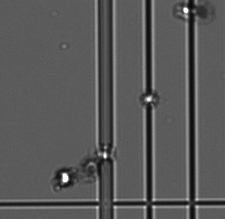Dead Cell: (81, 156, 103, 177)
Living Cell: (54, 170, 76, 190), (140, 91, 156, 107), (98, 148, 112, 160), (180, 3, 191, 15)
